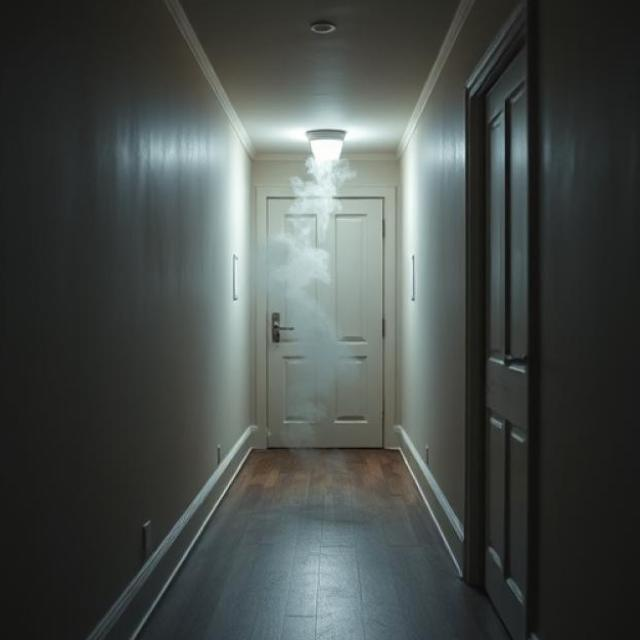fire: (268, 156, 358, 495)
